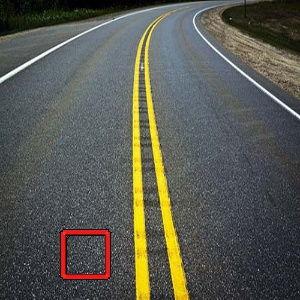square: (58, 227, 113, 280)
